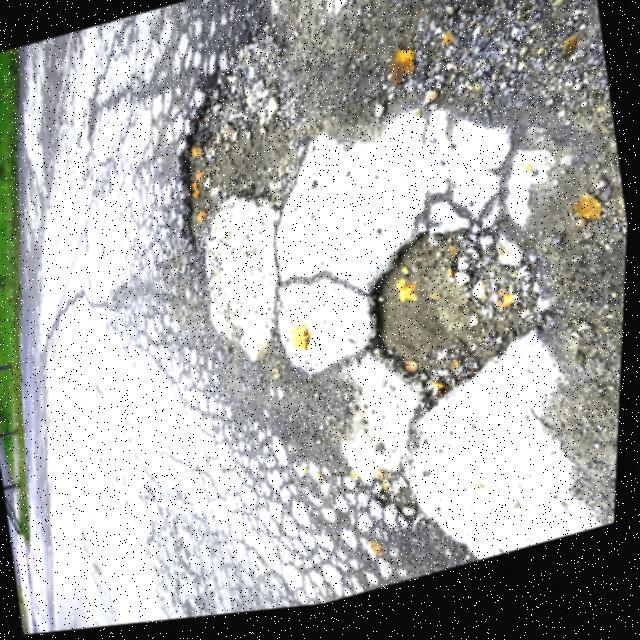pothole: (347, 202, 555, 430), (150, 52, 319, 265)
